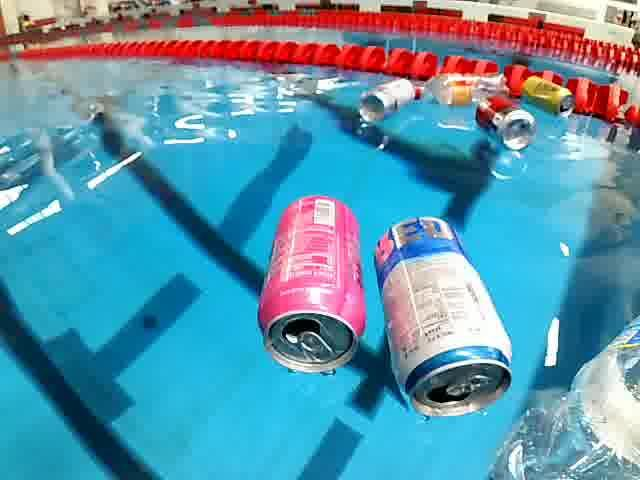Bottle: (482, 310, 639, 480), (407, 70, 512, 107)
Can: (373, 213, 521, 422), (255, 183, 378, 380), (470, 94, 548, 154), (352, 74, 424, 123), (520, 74, 578, 119)
